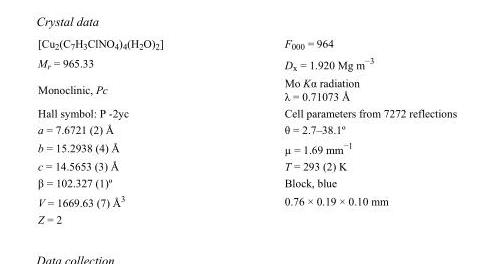table: (37, 36, 456, 225)
table column: (223, 36, 456, 225), (37, 36, 223, 225)
table row: (37, 74, 456, 104), (37, 52, 456, 74), (37, 137, 456, 157), (37, 190, 456, 210), (37, 120, 456, 137), (37, 157, 456, 174), (37, 36, 456, 52), (37, 104, 456, 120), (37, 174, 456, 190), (37, 210, 456, 225)
